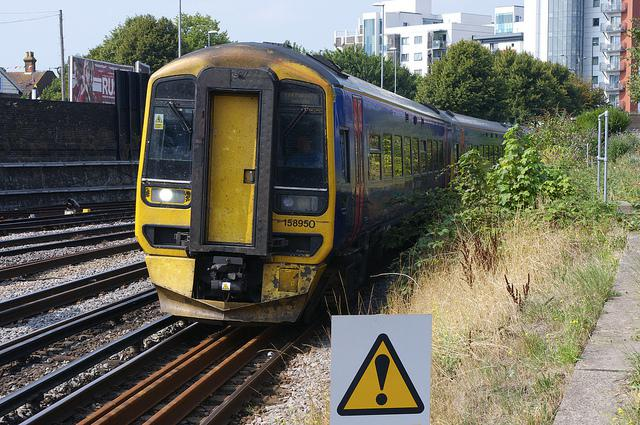Train: (133, 45, 519, 327)
